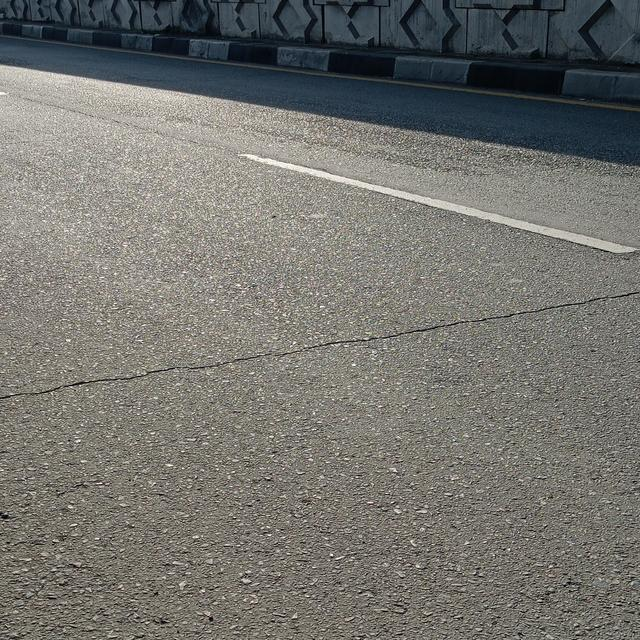Melintang: (0, 277, 640, 421)
